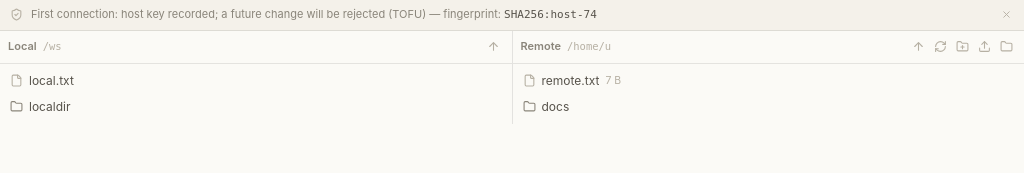
Test case: SftpPanel SFTP browser (F5) › SFTP 窗格互拖（P5，pointer-based） › download completion refresh › drop refreshes local results only after settlement
Check: the text "remote.txt" is shown, box [542,72,599,90]
Check: the text "local.txt" is shown, box [29,72,74,90]
Press the mouse on the text "remote.txt" at (733, 80), box [522,72,944,90]
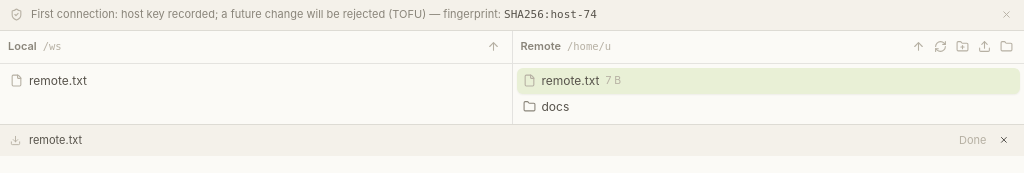
Check: the text "remote.txt" below "Local" is shown, box [29,72,87,88]
